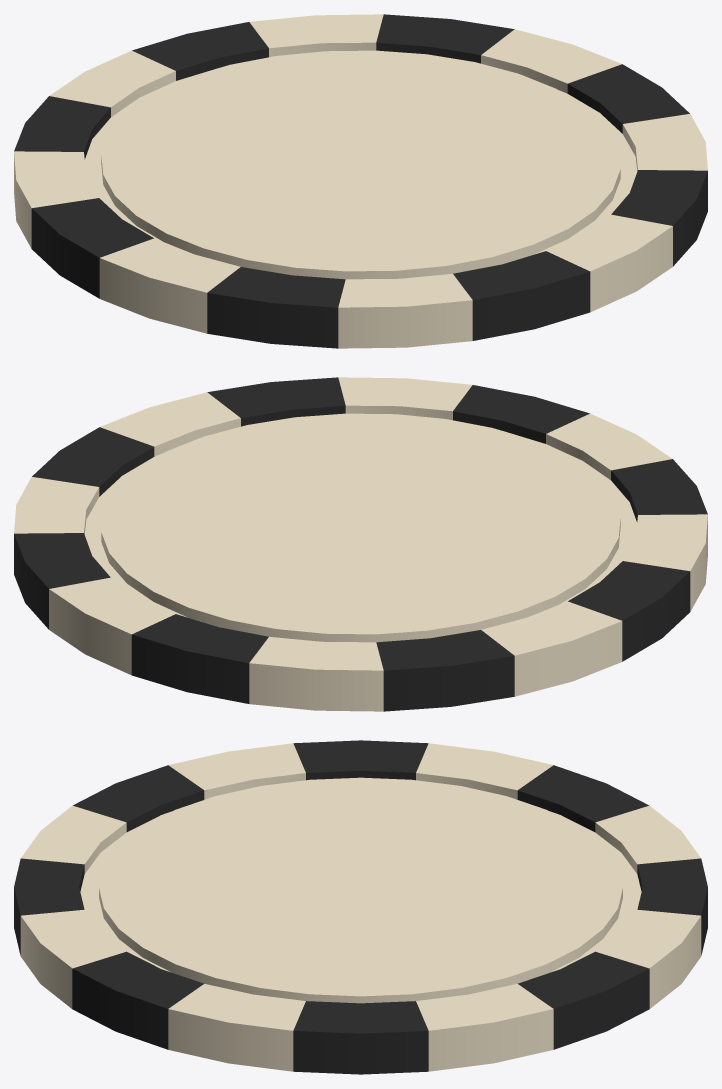
The model's file is pokerchip.fbx.
3 views of the same model, one above another, from view 1: azimuth 30°, elevation 25°; view 2: azimuth 150°, elevation 25°; view 3: azimuth 270°, elevation 25° (orthographic).
Visible parts, largest first — view 1: chip; view 2: chip; view 3: chip.
Part boxes in pixels (<box>): chip: <box>14,14,707,348</box>; chip: <box>14,377,707,711</box>; chip: <box>14,740,707,1074</box>.
Size of the model in its own units: 21.21 by 1.38 by 21.21.
